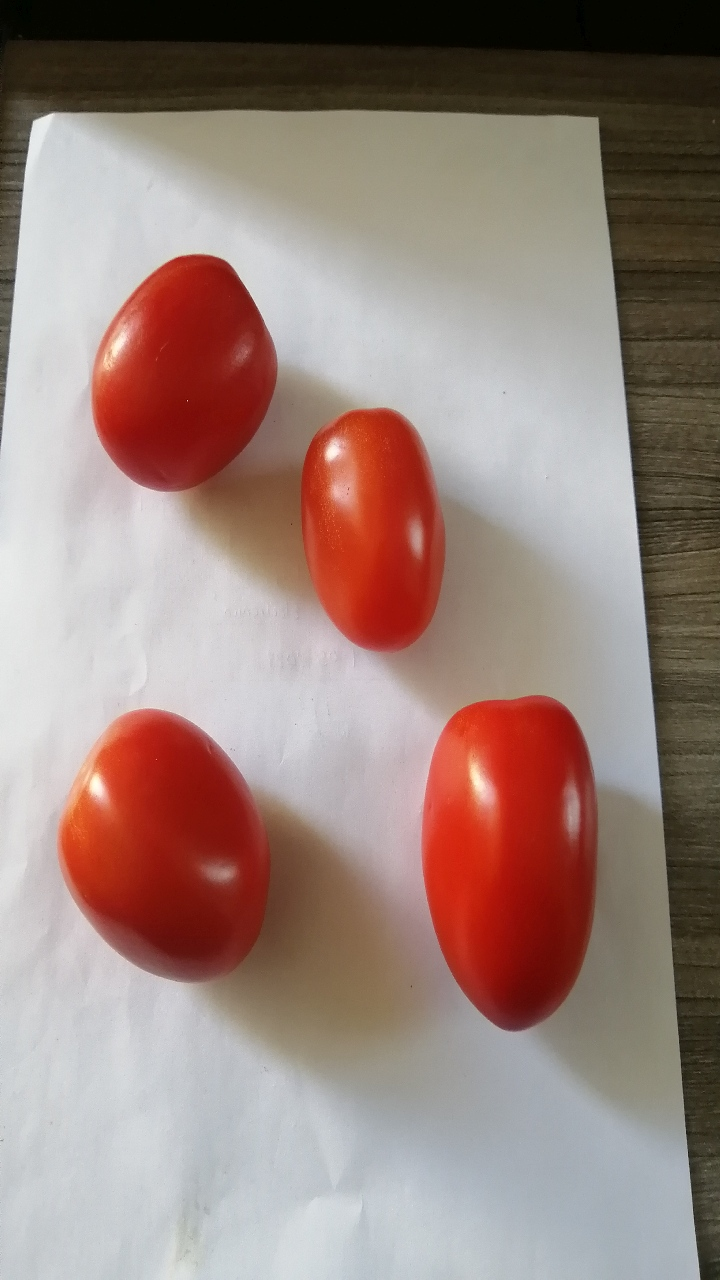tomateRojo: (388, 680, 606, 1057), (49, 242, 314, 519), (51, 692, 284, 995), (283, 400, 466, 680)
